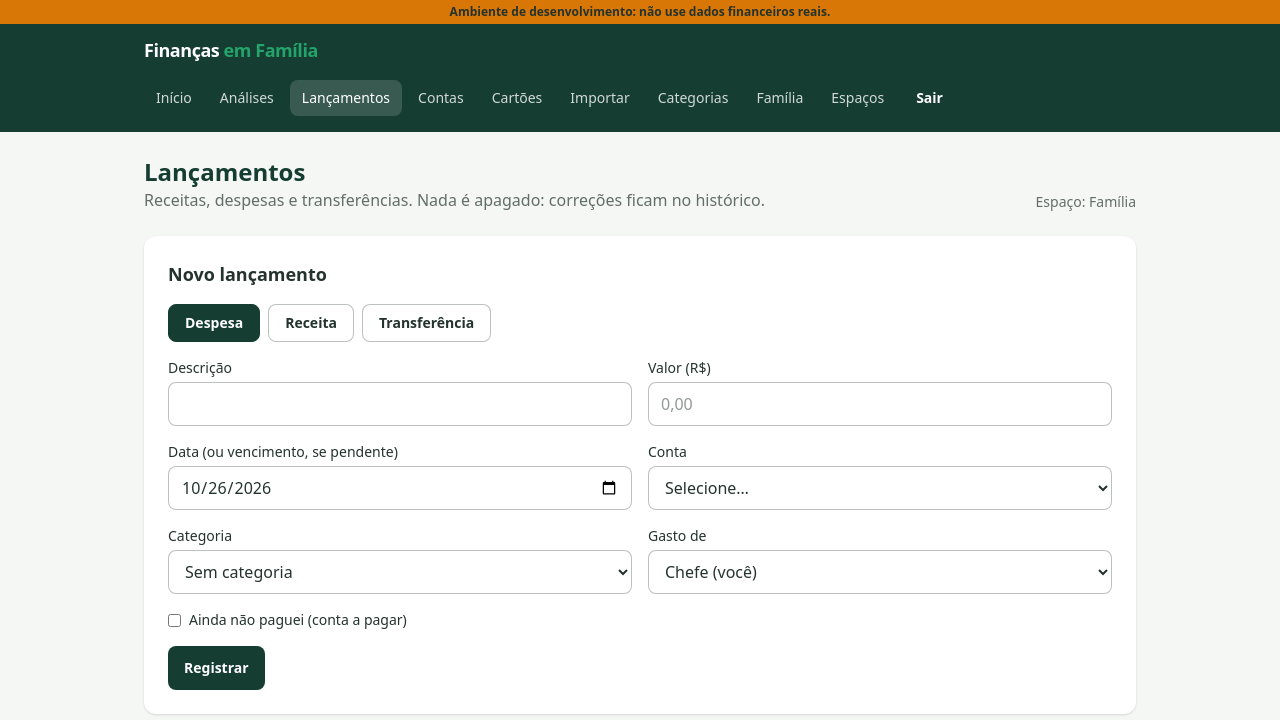
Test case: Lançamentos › registra receita
Click the radio button labelled "Receita" at coordinates (311, 323), box [268,304,354,342]
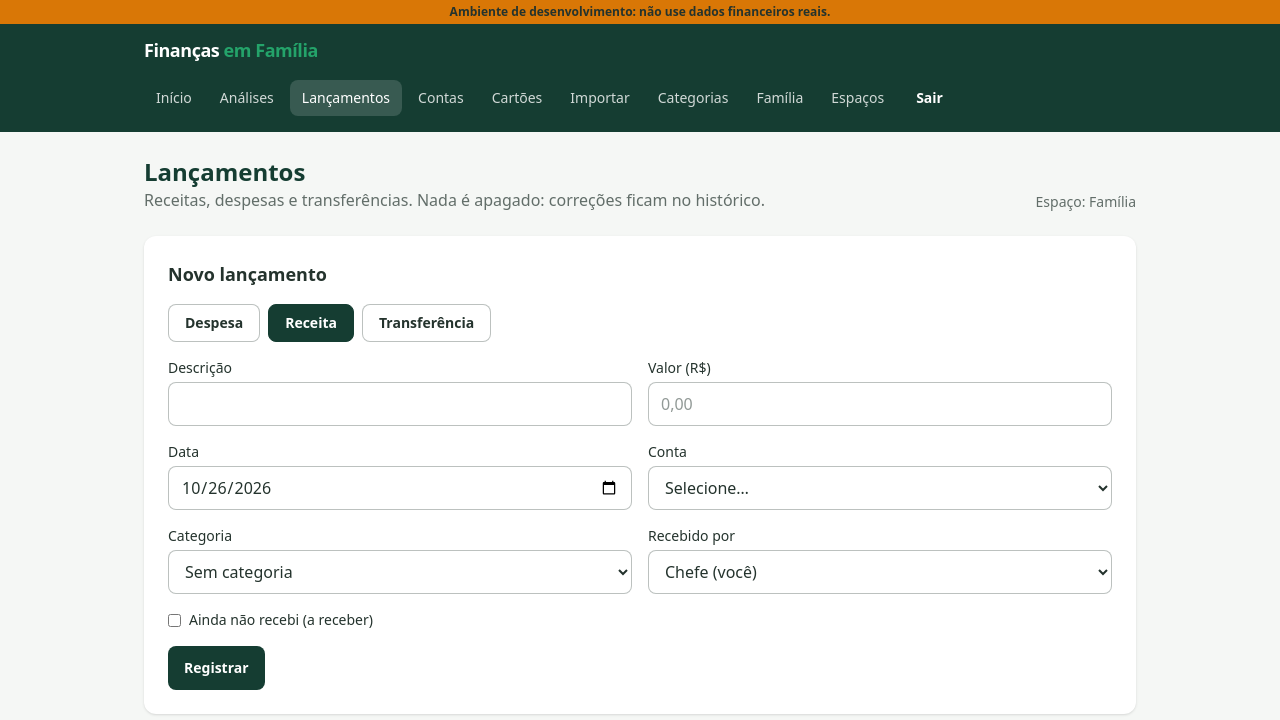
Type "Salário" into the field labelled "Descrição" at coordinates (400, 404), box [168,382,632,426]
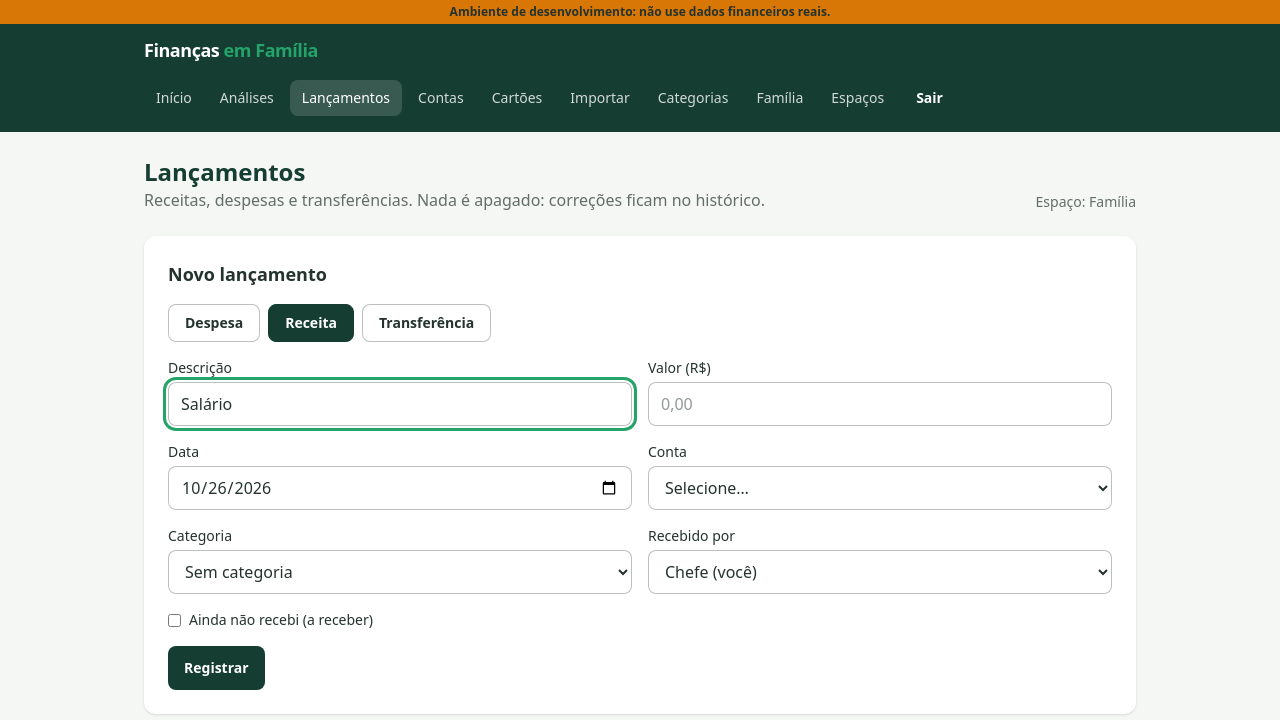
Type "5.000" into the field labelled "Valor (R$)" at coordinates (880, 404), box [648,382,1112,426]
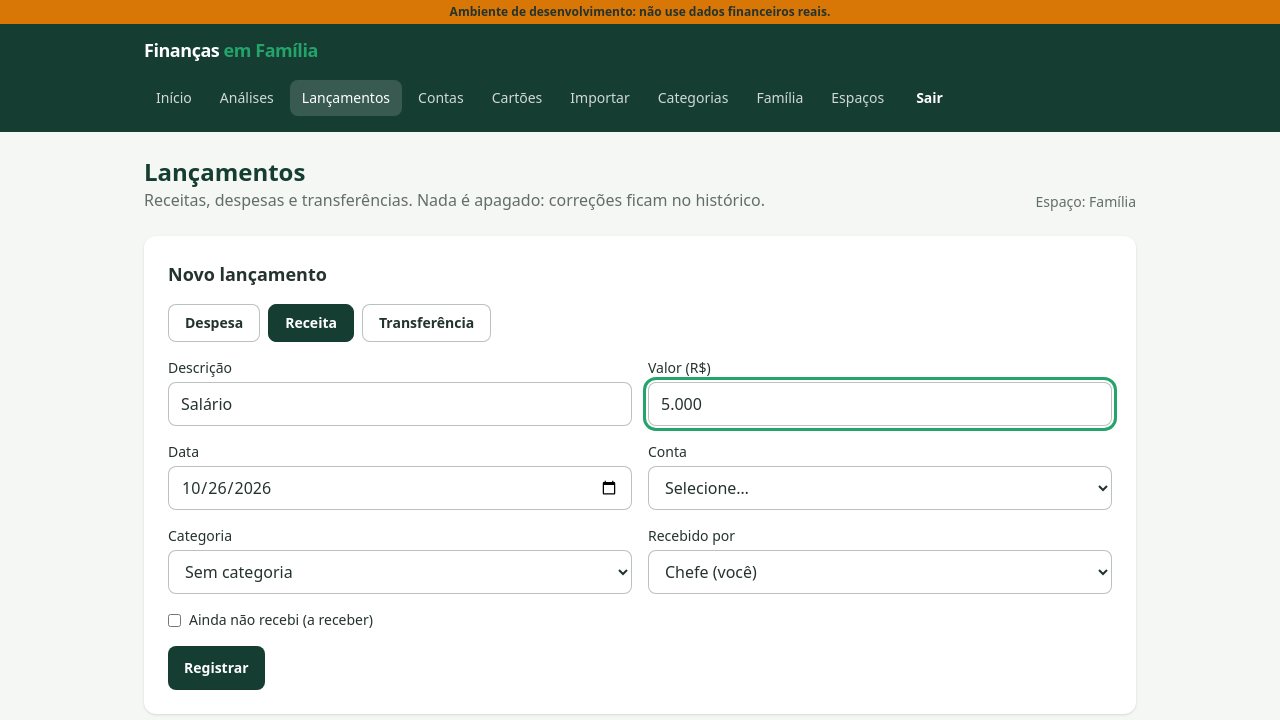
Select "Nubank · Conta corrente" in the dropdown labelled "Conta" at coordinates (880, 488), box [648,466,1112,510]
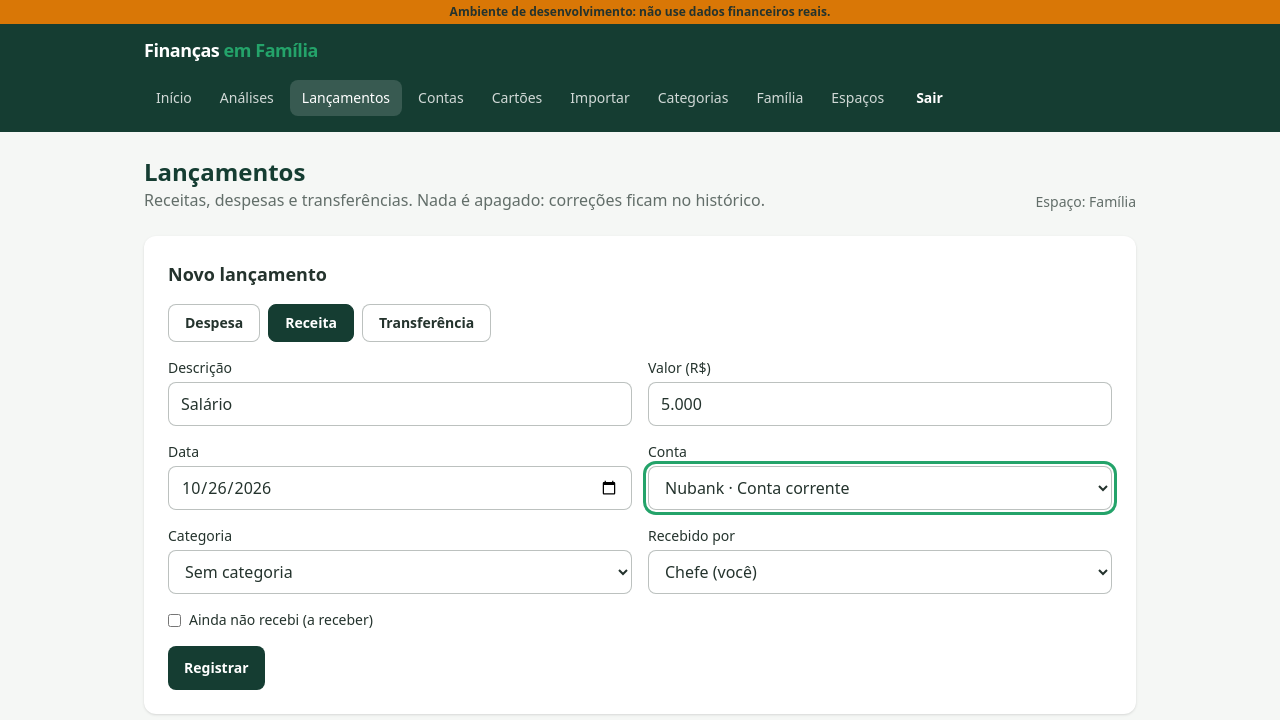
Click the button "Registrar" at coordinates (216, 668), box [168,646,265,690]
(page scrolled)
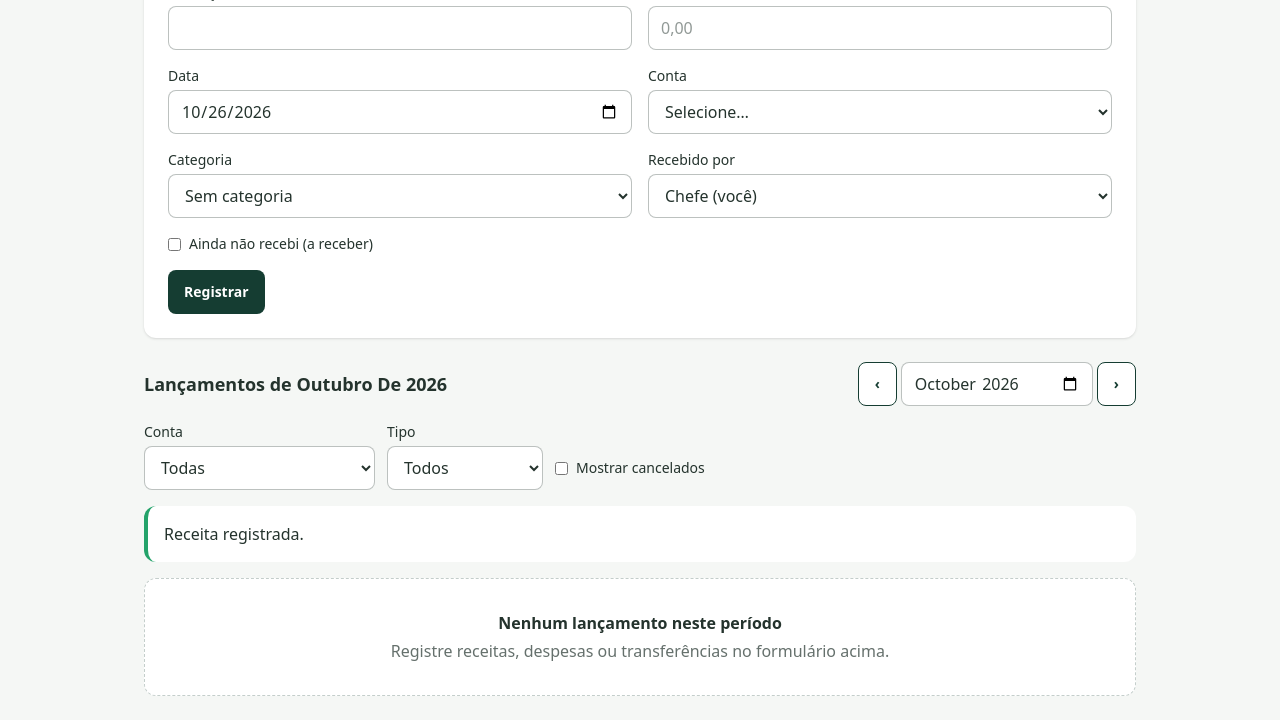
Expected: the text "Receita registrada." is shown, [144,506,1136,562]
